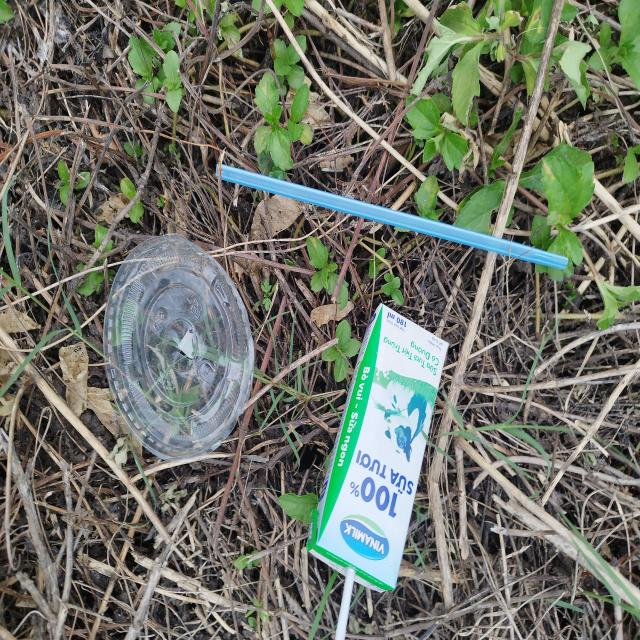drinking straw: (216, 163, 568, 270), (336, 570, 356, 640)
lid: (103, 232, 254, 462)
milk box: (306, 302, 449, 593)
